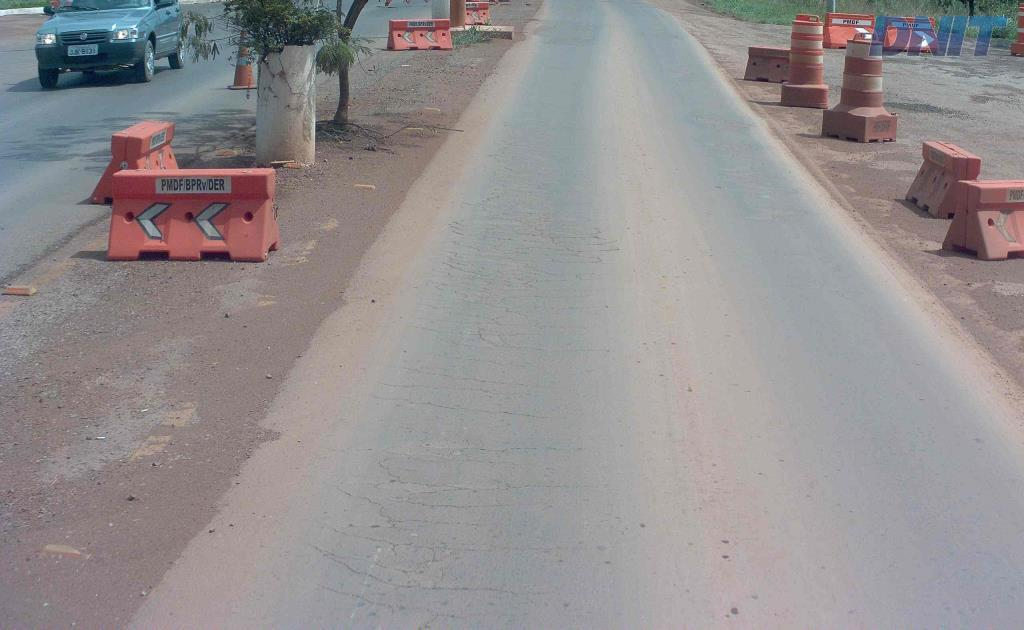crack: (392, 564, 509, 598), (362, 496, 440, 535), (397, 536, 462, 574)
